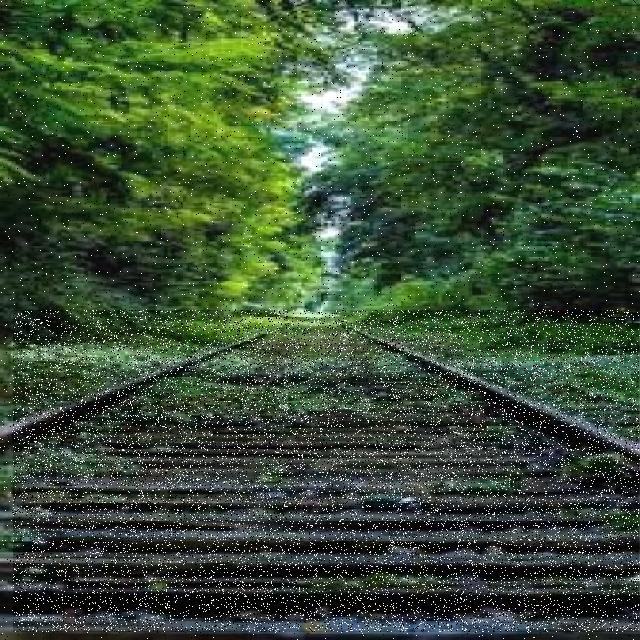rail: (14, 311, 640, 633)
